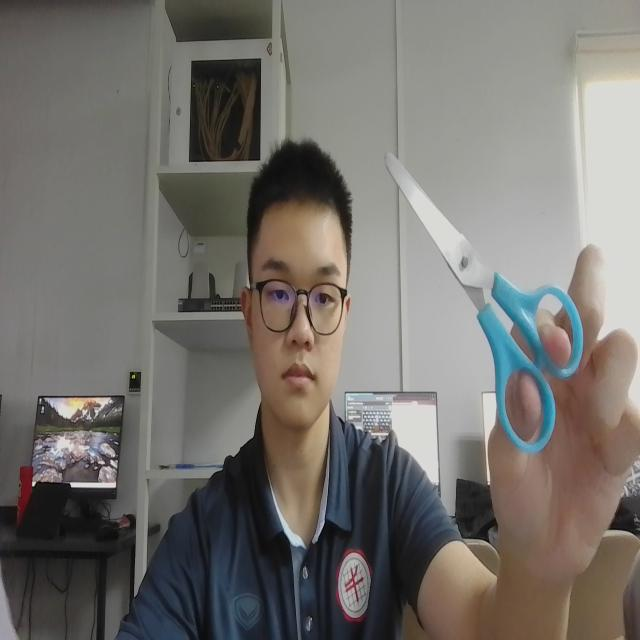scissors: (377, 133, 586, 464)
